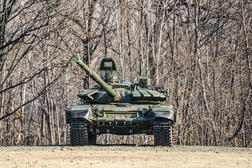t72: (71, 56, 175, 145)
